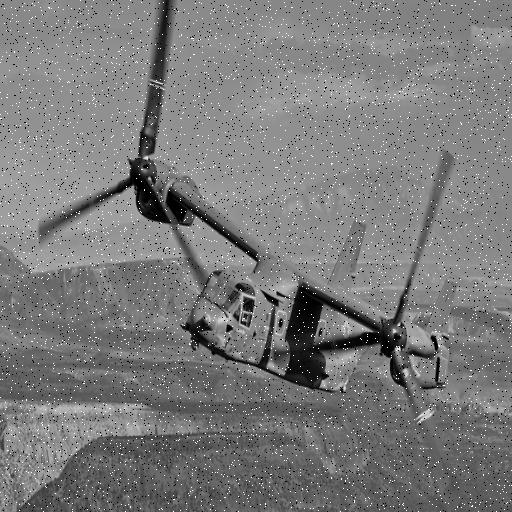helicopter: (34, 1, 476, 512)
